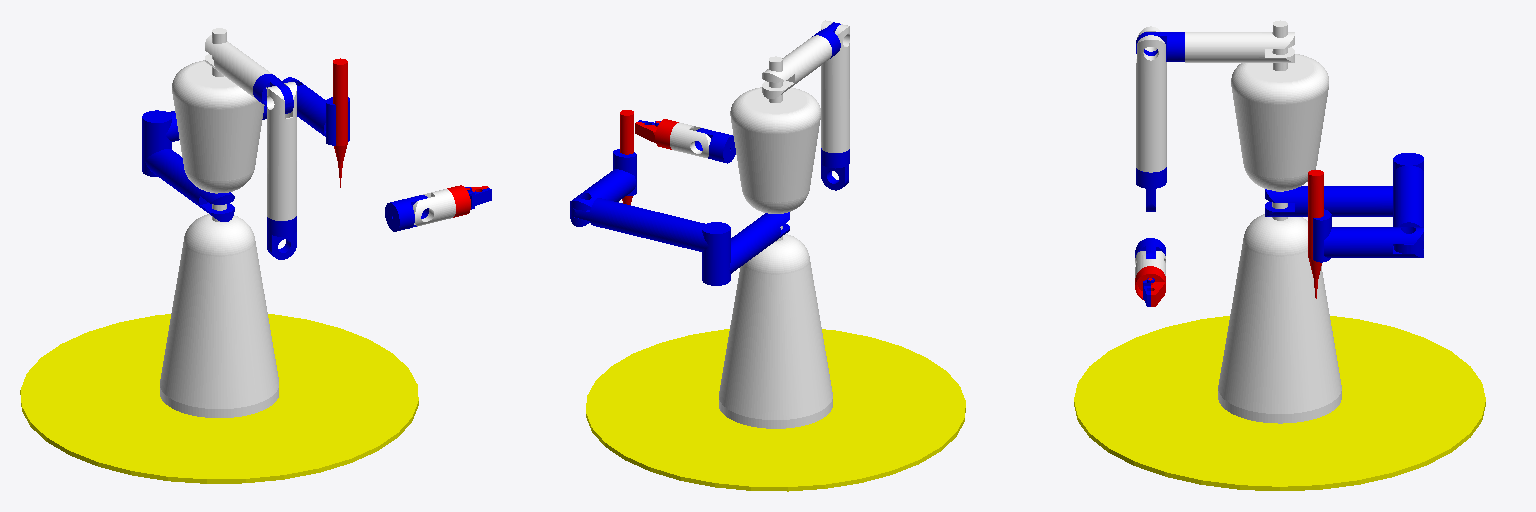
robot.urdf — robot:
<?xml version="1.0"?>

<robot name="robot">

  <!-- Color of materials -->
  <material name="yellow">
    <color rgba="1 1 0 1"/>
  </material>
  <material name="blue">
    <color rgba="0 0 1 1"/>
  </material>
  <material name="red">
    <color rgba="1 0 0 1"/>
  </material>

  <material name="pazul">
    <color rgba="1 1 1 1"/>
  </material>


<!-- REF -->
  <link name="ref">
    <visual>
      <geometry>
        <cylinder length="0.01" radius="0.4"/>
      </geometry>
      <origin rpy="0 0 0" xyz="0 0 -0.01001"/>
      <material name="yellow" />
    </visual>
    <collision>
      <origin xyz="0 0 0" rpy="0 0 -0.01001" />
      <geometry>
        <cylinder length="0.01" radius="0.4"/>
      </geometry>
    </collision>
    <inertial>
      <mass value="1" />
      <inertia ixx="1.0" ixy="0.0" ixz="0.0" iyy="1.0" iyz="0.0" izz="1.0" />
    </inertial>
  </link>
  <gazebo reference="ref">
    <material>Gazebo/White</material>
  </gazebo>
<!-- JOINT F1 -->
  <joint name="jointF1" type="fixed">
    <parent link="ref"/>
    <child link="base"/>
    <origin xyz="0 0 0"/>
    <axis xyz="0 0 1" />
    <limit effort="300" velocity="0.1" lower="-3.1" upper="3.1"/>
    <dynamics damping="50" friction="1"/>
  </joint>

<!-- BASE -->
 <link name="base">
    <visual>
      <geometry>
        <mesh filename="package://proyecto/meshes/BASE.stl" scale="0.001 0.001 0.001"/>
      </geometry>
      <origin rpy="1.57 0 0" xyz="0 0 0"/>
      <material name="pazul" />
    </visual>
    <collision>
      <origin rpy="1.57 0 0" xyz="0 0 0"/>
      <geometry>
        <mesh filename="package://proyecto/meshes/BASE.stl" scale="0.001 0.001 0.001"/>
      </geometry>
    </collision>
    <inertial>
      <mass value="1" />
      <inertia ixx="1.0" ixy="0.0" ixz="0.0" iyy="1.0" iyz="0.0" izz="1.0" />
    </inertial>
  </link>
  <gazebo reference="base">
    <material>Gazebo/White</material>
  </gazebo>

<!-- JOINT 2F -->
  <joint name="joint_2F" type="fixed">
    <parent link="base"/>
    <child link="cuerpoD1A"/>
    <origin xyz="0 0 0.75" rpy="0 0 0" />
    <axis xyz="0 0 1"  />
    <limit effort="300" velocity="0.1" lower="-0.85" upper="0.85"/>
    <dynamics damping="50" friction="1"/>
  </joint>

<!-- LINK 1A -->
   <link name="cuerpoD1A">
    <visual>
      <geometry>
        <mesh filename="package://proyecto/meshes/D001.stl" scale="0.001 0.001 0.001"/>
      </geometry>
      <origin rpy="0 1.57 0" xyz="0 -0.06 0"/>
      <material name="pazul" />
    </visual>
    <collision>
      <origin rpy="0 0 0" xyz="0 -0.06 0"/>
      <geometry>
        <mesh filename="package://proyecto/meshes/D001.stl" scale="0.001 0.001 0.001"/>
      </geometry>
    </collision>
    <inertial>
      <mass value="1" />
      <inertia ixx="1.0" ixy="0.0" ixz="0.0" iyy="1.0" iyz="0.0" izz="1.0" />
    </inertial>
  </link>
  <gazebo reference="cuerpoD1A">
    <material>Gazebo/Red</material>
  </gazebo>

<!-- BRAZO DERECHO -->
<!-- JOINT_1D -->
  <joint name="joint_1D" type="fixed">
    <parent link="cuerpoD1A"/>
    <child link="cuerpoD1B"/>
    <origin xyz="0 0 0" rpy="1.57 0 0" />
    <axis xyz="0 0 1"  />
    <limit effort="300" velocity="0.1" lower="-3.1415" upper="3.1415"/>
    <dynamics damping="50" friction="1"/>
  </joint>
  
<!-- LINK 1B -->
   <link name="cuerpoD1B">
    <visual>
      <geometry>
        <mesh filename="package://proyecto/meshes/DREP.stl" scale="0.001 0.001 0.001"/>
      </geometry>
      <origin rpy="1.57 0 0" xyz="0  0 0.19"/>
      <material name="blue" />
    </visual>
    <collision>
      <origin rpy="0 0 0" xyz="0 0 0"/>
      <geometry>
        <mesh filename="package://proyecto/meshes/DREP.stl" scale="0.001 0.001 0.001"/>
      </geometry>
    </collision>
    <inertial>
      <mass value="1" />
      <inertia ixx="1.0" ixy="0.0" ixz="0.0" iyy="1.0" iyz="0.0" izz="1.0" />
    </inertial>
  </link>
  <gazebo reference="cuerpoD1B">
    <material>Gazebo/Blue</material>
  </gazebo>


<!-- JOINT_2D -->
  <joint name="joint_2D" type="fixed">
    <parent link="cuerpoD1B"/>
    <child link="cuerpoD2A"/>
    <origin xyz="0 0 0.25" rpy="1.57 0 1.57" />
    <axis xyz="0 0 1"  />
    <limit effort="300" velocity="0.1" lower="-3.1415" upper="3.1415"/>
    <dynamics damping="50" friction="1"/>
  </joint>
  
<!-- LINK 2A -->
   <link name="cuerpoD2A">
    <visual>
      <geometry>
        <mesh filename="package://proyecto/meshes/D002.stl" scale="0.001 0.001 0.001"/>
      </geometry>
      <origin rpy="1.57 1.57 0" xyz="-0.06 0 0"/>
      <material name="pazul" />
    </visual>
    <collision>
      <origin rpy="0 0 0" xyz="0 0 -0.06"/>
      <geometry>
        <mesh filename="package://proyecto/meshes/D002.stl" scale="0.001 0.001 0.001"/>
      </geometry>
    </collision>
    <inertial>
      <mass value="1" />
      <inertia ixx="1.0" ixy="0.0" ixz="0.0" iyy="1.0" iyz="0.0" izz="1.0" />
    </inertial>
  </link>
  <gazebo reference="cuerpoD2A">
    <material>Gazebo/Blue</material>
  </gazebo>



<!-- JOINT_3D -->
  <joint name="joint_3D" type="fixed">
    <parent link="cuerpoD2A"/>
    <child link="cuerpoD2B"/>
    <origin xyz="0 0 0" rpy="1.57 0 -1.57" />
    <axis xyz="0 0 1"  />
    <limit effort="300" velocity="0.1" lower="-3.1415" upper="3.1415"/>
    <dynamics damping="50" friction="1"/>
  </joint>
  
<!-- LINK2B -->
   <link name="cuerpoD2B">
    <visual>
      <geometry>
        <mesh filename="package://proyecto/meshes/DREP.stl" scale="0.001 0.001 0.001"/>
      </geometry>
      <origin rpy="1.57 0 0" xyz="0 0 0.260"/>
      <material name="blue" />
    </visual>
    <collision>
      <origin rpy=" 0 0 0" xyz="0 0 -0.260"/>
      <geometry>
        <mesh filename="package://proyecto/meshes/DREP.stl" scale="0.001 0.001 0.001"/>
      </geometry>
    </collision>
    <inertial>
      <mass value="1" />
      <inertia ixx="1.0" ixy="0.0" ixz="0.0" iyy="1.0" iyz="0.0" izz="1.0" />
    </inertial>
  </link>
  <gazebo reference="cuerpoD2B">
    <material>Gazebo/Blue</material>
  </gazebo>


<!-- JOINT_4D -->
  <joint name="joint_4D" type="fixed">
    <parent link="cuerpoD2B"/>
    <child link="cuerpoD3A"/>
    <origin xyz="0 0 0.320" rpy="1.57 0 -1.57" />
    <axis xyz="0 0 1"  />
    <limit effort="300" velocity="0.1" lower="-3.1415" upper="3.1415"/>
    <dynamics damping="50" friction="1"/>
  </joint>
  
<!-- LINK 3A -->
   <link name="cuerpoD3A">
    <visual>
      <geometry>
        <mesh filename="package://proyecto/meshes/D003.stl" scale="0.001 0.001 0.001"/>
      </geometry>
      <origin rpy="0 -1.57  -1.57 " xyz="-0.060 0 0"/>
      <material name="pazul" />
    </visual>
    <collision>
      <origin rpy=" 0 0 1.57" xyz="0.06 0 0"/>
      <geometry>
        <mesh filename="package://proyecto/meshes/D003.stl" scale="0.001 0.001 0.001"/>
      </geometry>
    </collision>
    <inertial>
      <mass value="1" />
      <inertia ixx="1.0" ixy="0.0" ixz="0.0" iyy="1.0" iyz="0.0" izz="1.0" />
    </inertial>
  </link>
  <gazebo reference="cuerpoD3A">
    <material>Gazebo/Blue</material>
  </gazebo>

<!-- JOINT_5D -->
  <joint name="joint_5D" type="fixed">
    <parent link="cuerpoD3A"/>
    <child link="cuerpoD3B"/>
    <origin xyz="0 0 0" rpy="1.57 0 -1.57" />
    <axis xyz="0 0 1"  />
    <limit effort="300" velocity="0.1" lower="-3.1415" upper="3.1415"/>
    <dynamics damping="50" friction="1"/>
  </joint>
  
<!-- LINK 3B -->
   <link name="cuerpoD3B">
    <visual>
      <geometry>
        <mesh filename="package://proyecto/meshes/DREP.stl" scale="0.001 0.001 0.001"/>
      </geometry>
      <origin rpy="1.57 0 1.57" xyz="0 0 0.260"/>
      <material name="blue" />
    </visual>
    <collision>
      <origin rpy=" 0 0 -1.57" xyz="0.260 0 0"/>
      <geometry>
        <mesh filename="package://proyecto/meshes/DREP.stl" scale="0.001 0.001 0.001"/>
      </geometry>
    </collision>
    <inertial>
      <mass value="1" />
      <inertia ixx="1.0" ixy="0.0" ixz="0.0" iyy="1.0" iyz="0.0" izz="1.0" />
    </inertial>
  </link>
  <gazebo reference="cuerpoD3B">
    <material>Gazebo/Blue</material>
  </gazebo>



<!-- JOINT_6D -->
  <joint name="joint_6D" type="fixed">
    <parent link="cuerpoD3B"/>
    <child link="cuerpoD4A"/>
    <origin xyz="0 0 0.320" rpy="1.57 0 3.14159" />
    <axis xyz="0 0 1"  />
    <limit effort="300" velocity="0.1" lower="-3.1415" upper="3.1415"/>
    <dynamics damping="50" friction="1"/>
  </joint>
  
<!-- LINK 4A -->
   <link name="cuerpoD4A">
    <visual>
      <geometry>
        <mesh filename="package://proyecto/meshes/D004.stl" scale="0.01 0.01 0.01"/>
      </geometry>
      <origin rpy="3.14159 1.57 0" xyz="0 0.06 0"/>
      <material name="pazul" />
    </visual>
    <collision>
      <origin rpy=" 0 0 0" xyz="0 0 0"/>
      <geometry>
        <mesh filename="package://proyecto/meshes/D004.stl" scale="0.01 0.01 0.01"/>
      </geometry>
    </collision>
    <inertial>
      <mass value="1" />
      <inertia ixx="1.0" ixy="0.0" ixz="0.0" iyy="1.0" iyz="0.0" izz="1.0" />
    </inertial>
  </link>
  <gazebo reference="cuerpoD4A">
    <material>Gazebo/Blue</material>
  </gazebo>


<!-- JOINT_3FF -->
  <joint name="joint_3F" type="fixed">
    <parent link="cuerpoD4A"/>
    <child link="cuerpoD4B"/>
    <origin xyz="0 0 0" rpy="0 0 0 " />
    <axis xyz="0 0 1"  />
    <limit effort="300" velocity="0.1" lower="-0.85" upper="0.85"/>
    <dynamics damping="50" friction="1"/>
  </joint>
  
<!-- LINK 4B -->
   <link name="cuerpoD4B">
    <visual>
      <geometry>
        <mesh filename="package://proyecto/meshes/GARRA001.stl" scale="0.001 0.001 0.001"/>
      </geometry>
      <origin rpy="0  0 0" xyz="0 0.07 0"/>
      <material name="red" />
    </visual>
    <collision>
      <origin rpy=" 0 0 0" xyz="0 0 0"/>
      <geometry>
        <mesh filename="package://proyecto/meshes/GARRA001.stl" scale="0.001 0.001 0.001"/>
      </geometry>
    </collision>
    <inertial>
      <mass value="1" />
      <inertia ixx="1.0" ixy="0.0" ixz="0.0" iyy="1.0" iyz="0.0" izz="1.0" />
    </inertial>
  </link>
  <gazebo reference="cuerpoD4B">
    <material>Gazebo/Blue</material>
  </gazebo>

<!-- JOINT_GRIP -->
  <joint name="joint_grip" type="fixed">
    <parent link="cuerpoD4B"/>
    <child link="cuerpoDGRIP"/>
    <origin xyz="0 0.11 0" rpy="1.57 0 1.57" />
    <axis xyz="0 0 1"  />
    <limit effort="300" velocity="0.1" lower="-0.85" upper="0.85"/>
    <dynamics damping="50" friction="1"/>
  </joint>
  
<!-- LINK grip -->
   <link name="cuerpoDGRIP">
    <visual>
      <geometry>
        <mesh filename="package://proyecto/meshes/GARRA002.stl" scale="0.001 0.001 0.001"/>
      </geometry>
      <origin rpy="0  1.57 -1.57" xyz="-0.01 0 0"/>
      <material name="blue" />
    </visual>
    <collision>
      <origin rpy=" 0 0 0" xyz="0 0 0"/>
      <geometry>
        <mesh filename="package://proyecto/meshes/GARRA002.stl" scale="0.001 0.001 0.001"/>
      </geometry>
    </collision>
    <inertial>
      <mass value="1" />
      <inertia ixx="1.0" ixy="0.0" ixz="0.0" iyy="1.0" iyz="0.0" izz="1.0" />
    </inertial>
  </link>
  <gazebo reference="cuerpoDGRIP">
    <material>Gazebo/Blue</material>
  </gazebo>

<!-- PARTE IZQUIERDA*************************************************************-->


<!-- JOINT F3 -->
  <joint name="jointF3" type="fixed">
    <parent link="base"/>
    <child link="cuerpo_1IZ"/>
    <origin xyz="0 0 0.420 "/>
    <axis xyz="0 0 1" />
    <limit effort="300" velocity="0.1" lower="-0.85" upper="0.85"/>
    <dynamics damping="50" friction="1"/>
  </joint>

<!-- LINK 1IZA -->
   <link name="cuerpo_1IZ">
    <visual>
      <geometry>
        <mesh filename="package://proyecto/meshes/IZ001.stl" scale="0.001 0.001 0.001"/>
      </geometry>
      <origin rpy="0 0 -1.57" xyz="0 0.185 0"/>
      <material name="blue" />
    </visual>
    <collision>
      <origin rpy="0 0 -1.57" xyz="0 0.185 0"/>
      <geometry>
        <mesh filename="package://proyecto/meshes/IZ001.stl" scale="0.001 0.001 0.001"/>
      </geometry>
    </collision>
    <inertial>
      <mass value="1" />
      <inertia ixx="1.0" ixy="0.0" ixz="0.0" iyy="1.0" iyz="0.0" izz="1.0" />
    </inertial>
  </link>
  <gazebo reference="cuerpo_1IZ">
    <material>Gazebo/Red</material>
  </gazebo>





<!--JOINT_1IZ-->
  <joint name="joint_1I" type="revolute">
    <parent link="cuerpo_1IZ"/>
    <child link="cuerpo_2IZ"/>
    <origin xyz="0 0.250 0 "/>
    <axis xyz="0 0 1" />
    <limit effort="300" velocity="0.1" lower="-0.85" upper="0.85"/>
    <dynamics damping="50" friction="1"/>
  </joint>

<!-- LINK 2IZ -->
   <link name="cuerpo_2IZ">
    <visual>
      <geometry>
        <mesh filename="package://proyecto/meshes/IZ002.stl" scale="0.001 0.001 0.001"/>
      </geometry>
      <origin rpy="1.57 0 0" xyz="0.255 0 0.060"/>
      <material name="blue" />
    </visual>
    <collision>
      <origin rpy="1.57 0 0" xyz="0.255 0 0.060"/>
      <geometry>
        <mesh filename="package://proyecto/meshes/IZ002.stl" scale="0.001 0.001 0.001"/>
      </geometry>
    </collision>
    <inertial>
      <mass value="1" />
      <inertia ixx="1.0" ixy="0.0" ixz="0.0" iyy="1.0" iyz="0.0" izz="1.0" />
    </inertial>
  </link>
  <gazebo reference="cuerpo_2IZ">
    <material>Gazebo/Red</material>
  </gazebo>




<!-- JOINT_2IZ -->
  <joint name="joint_2I" type="revolute">
    <parent link="cuerpo_2IZ"/>
    <child link="cuerpo_3IZ"/>
    <origin xyz="0.320 0 0.06"/>
    <axis xyz="0 0 1" />
    <limit effort="300" velocity="0.1" lower="-0.85" upper="0.85"/>
    <dynamics damping="50" friction="1"/>
  </joint>

<!-- LINK 3I -->
   <link name="cuerpo_3IZ">
    <visual>
      <geometry>
        <mesh filename="package://proyecto/meshes/IZ003.stl" scale="0.001 0.001 0.001"/>
      </geometry>
      <origin rpy="0 0 0" xyz="0 -0.115 0"/>
      <material name="blue" />
    </visual>
    <collision>
      <origin rpy="0 0 0" xyz="0 0 0"/>
      <geometry>
        <mesh filename="package://proyecto/meshes/IZ003.stl" scale="0.001 0.001 0.001"/>
      </geometry>
    </collision>
    <inertial>
      <mass value="1" />
      <inertia ixx="1.0" ixy="0.0" ixz="0.0" iyy="1.0" iyz="0.0" izz="1.0" />
    </inertial>
  </link>
  <gazebo reference="cuerpo_3IZ">
    <material>Gazebo/Red</material>
  </gazebo>




<!-- JOINT_3IZ-->
  <joint name="joint_3I" type="prismatic">
    <parent link="cuerpo_3IZ"/>
    <child link="cuerpo_4IZ"/>
    <origin xyz="0 -0.180 0 " rpy = "3.1415 0 -1.57"/>
    <axis xyz="0 0 1" />
    <limit effort="300" velocity="0.1" lower="0" upper="0.085"/>
    <dynamics damping="50" friction="1"/>
  </joint>

<!-- LINK PRIS -->
   <link name="cuerpo_4IZ">
    <visual>
      <geometry>
        <mesh filename="package://proyecto/meshes/IZ005.stl" scale="0.001 0.001 0.001"/>
      </geometry>
      <origin rpy="-1.570 0 0" xyz="0 0 -0.150"/>
      <material name="red" />
    </visual>
    <collision>
      <origin rpy="0 0 0" xyz="0 0 0"/>
      <geometry>
        <mesh filename="package://proyecto/meshes/IZ005.stl" scale="0.001 0.001 0.001"/>
      </geometry>
    </collision>
    <inertial>
      <mass value="1" />
      <inertia ixx="1.0" ixy="0.0" ixz="0.0" iyy="1.0" iyz="0.0" izz="1.0" />
    </inertial>
  </link>
  <gazebo reference="cuerpo_4IZ">
    <material>Gazebo/Red</material>
  </gazebo>







<!-- Transmissions -->
  <!-- Transmissions -->
  <transmission name="tran1">
    <type>transmission_interface/SimpleTransmission</type>
    <joint name="joint1">
      <hardwareInterface>hardware_interface/EffortJointInterface</hardwareInterface>
    </joint>
    <actuator name="motor1">
      <hardwareInterface>hardware_interface/EffortJointInterface</hardwareInterface>
      <mechanicalReduction>1</mechanicalReduction>
    </actuator>
  </transmission>

  <transmission name="tran2">
    <type>transmission_interface/SimpleTransmission</type>
    <joint name="joint2">
      <hardwareInterface>hardware_interface/EffortJointInterface</hardwareInterface>
    </joint>
    <actuator name="motor2">
      <hardwareInterface>hardware_interface/EffortJointInterface</hardwareInterface>
      <mechanicalReduction>1</mechanicalReduction>
    </actuator>
  </transmission>

  <transmission name="tran3">
    <type>transmission_interface/SimpleTransmission</type>
    <joint name="joint3">
      <hardwareInterface>hardware_interface/EffortJointInterface</hardwareInterface>
    </joint>
    <actuator name="motor3">
      <hardwareInterface>hardware_interface/EffortJointInterface</hardwareInterface>
      <mechanicalReduction>1</mechanicalReduction>
    </actuator>
  </transmission>

   <!-- Plugin: ros_control -->
   <gazebo>
     <plugin name="gazebo_ros_control" filename="libgazebo_ros_control.so">
       <robotNamespace>/robot</robotNamespace>
       <legacyModeNS>true</legacyModeNS>
     </plugin>
   </gazebo>

</robot>

--- Render facts (derived) ---
3 views of the same robot in one strip: view 1: azimuth 30°, elevation 25°; view 2: azimuth 150°, elevation 25°; view 3: azimuth 270°, elevation 25° (orthographic).
Robot: robot — 15 links, 14 joints (2 revolute, 1 prismatic, 11 fixed); root link ref; default pose: every joint at zero.
Visible links, largest first — view 1: ref, base, cuerpoD2A, cuerpo_1IZ, cuerpoD1A, cuerpo_3IZ, cuerpo_4IZ, cuerpo_2IZ, cuerpoD4A, cuerpoD2B, cuerpoD3B, cuerpoD1B (+1 smaller); view 2: ref, base, cuerpo_2IZ, cuerpoD2A, cuerpo_1IZ, cuerpo_3IZ, cuerpoD1A, cuerpoD4A, cuerpoD2B, cuerpoD3B, cuerpoD4B, cuerpo_4IZ; view 3: ref, base, cuerpoD2A, cuerpo_3IZ, cuerpoD1A, cuerpo_1IZ, cuerpo_2IZ, cuerpo_4IZ, cuerpoD1B, cuerpoD4B, cuerpoD2B.
Boxes of the visible links, x1,y1,x2,y2 form: ref: [20, 314, 418, 483]; base: [160, 28, 278, 417]; cuerpoD2A: [267, 82, 296, 220]; cuerpo_1IZ: [142, 145, 234, 221]; cuerpoD1A: [205, 35, 271, 98]; cuerpo_3IZ: [283, 77, 349, 145]; cuerpo_4IZ: [333, 58, 347, 187]; cuerpo_2IZ: [142, 106, 266, 149]; cuerpoD4A: [410, 189, 455, 226]; cuerpoD2B: [267, 216, 296, 259]; cuerpoD3B: [385, 195, 428, 231]; cuerpoD1B: [253, 74, 293, 113]; ref: [586, 329, 965, 491]; base: [719, 56, 832, 428]; cuerpo_2IZ: [570, 198, 730, 259]; cuerpoD2A: [821, 20, 849, 152]; cuerpo_1IZ: [702, 212, 789, 285]; cuerpo_3IZ: [570, 149, 636, 226]; cuerpoD1A: [762, 35, 831, 98]; cuerpoD4A: [670, 122, 712, 157]; cuerpoD2B: [821, 148, 849, 190]; cuerpoD3B: [695, 128, 735, 163]; cuerpoD4B: [635, 119, 678, 149]; cuerpo_4IZ: [620, 110, 633, 204]; ref: [1074, 316, 1485, 490]; base: [1218, 20, 1341, 423]; cuerpoD2A: [1136, 26, 1166, 172]; cuerpo_3IZ: [1313, 209, 1423, 262]; cuerpoD1A: [1185, 32, 1294, 62]; cuerpo_1IZ: [1265, 186, 1392, 216]; cuerpo_2IZ: [1393, 153, 1423, 253]; cuerpo_4IZ: [1308, 170, 1323, 298]; cuerpoD1B: [1136, 32, 1184, 61]; cuerpoD4B: [1135, 266, 1165, 306]; cuerpoD2B: [1136, 167, 1166, 211].
Size in the robot's own frame: 0.88 by 0.8 by 0.815 metres.
Meshes: 12 distinct files referenced, 13 mesh visuals loaded (11 binary STL); not drawn: 1 (reference not matched to a file when rendering).